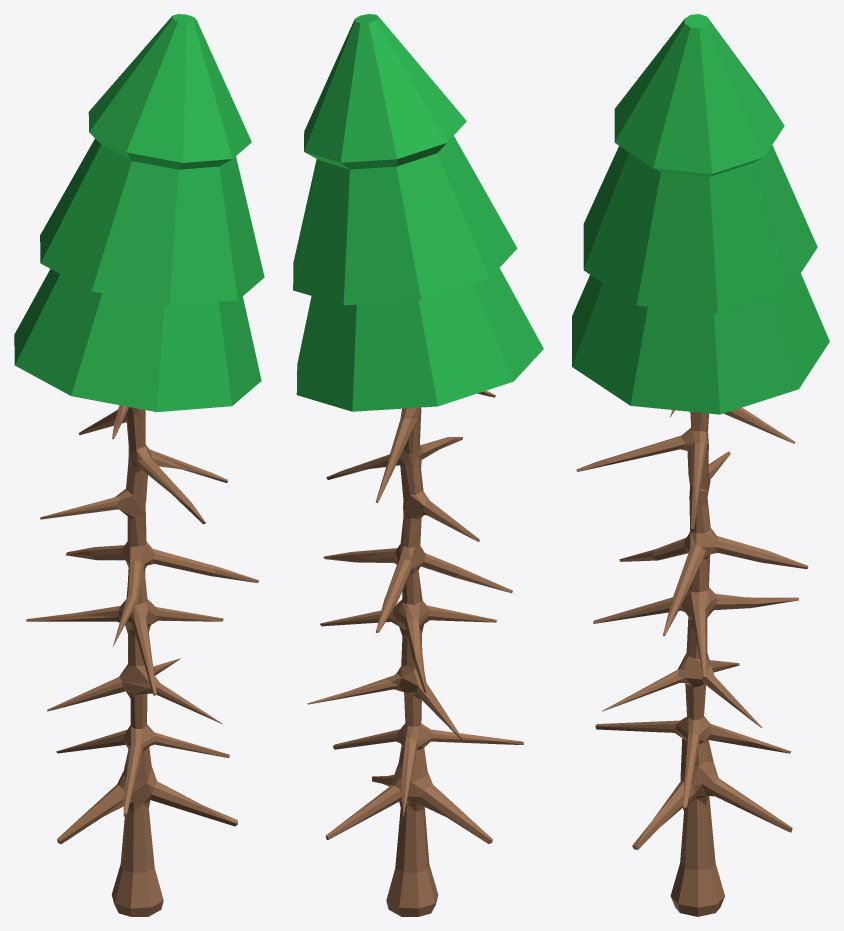
The model's file is Trunk_v11.fbx.
3 renders of one model, left to right at view 1: azimuth 30°, elevation 25°; view 2: azimuth 150°, elevation 25°; view 3: azimuth 270°, elevation 25°, orthographic. The views are drawn at different scales.
Parts seen in each view (by area): view 1: Trunk_v11; view 2: Trunk_v11; view 3: Trunk_v11.
Part boxes in pixels (x1=…): Trunk_v11: x1=14, y1=14, x2=264, y2=916; Trunk_v11: x1=293, y1=14, x2=543, y2=916; Trunk_v11: x1=572, y1=14, x2=829, y2=916.
Bounding box in the file's own units: 17.64 × 67.35 × 17.2.
Materials: 1 (1 with a texture image).
